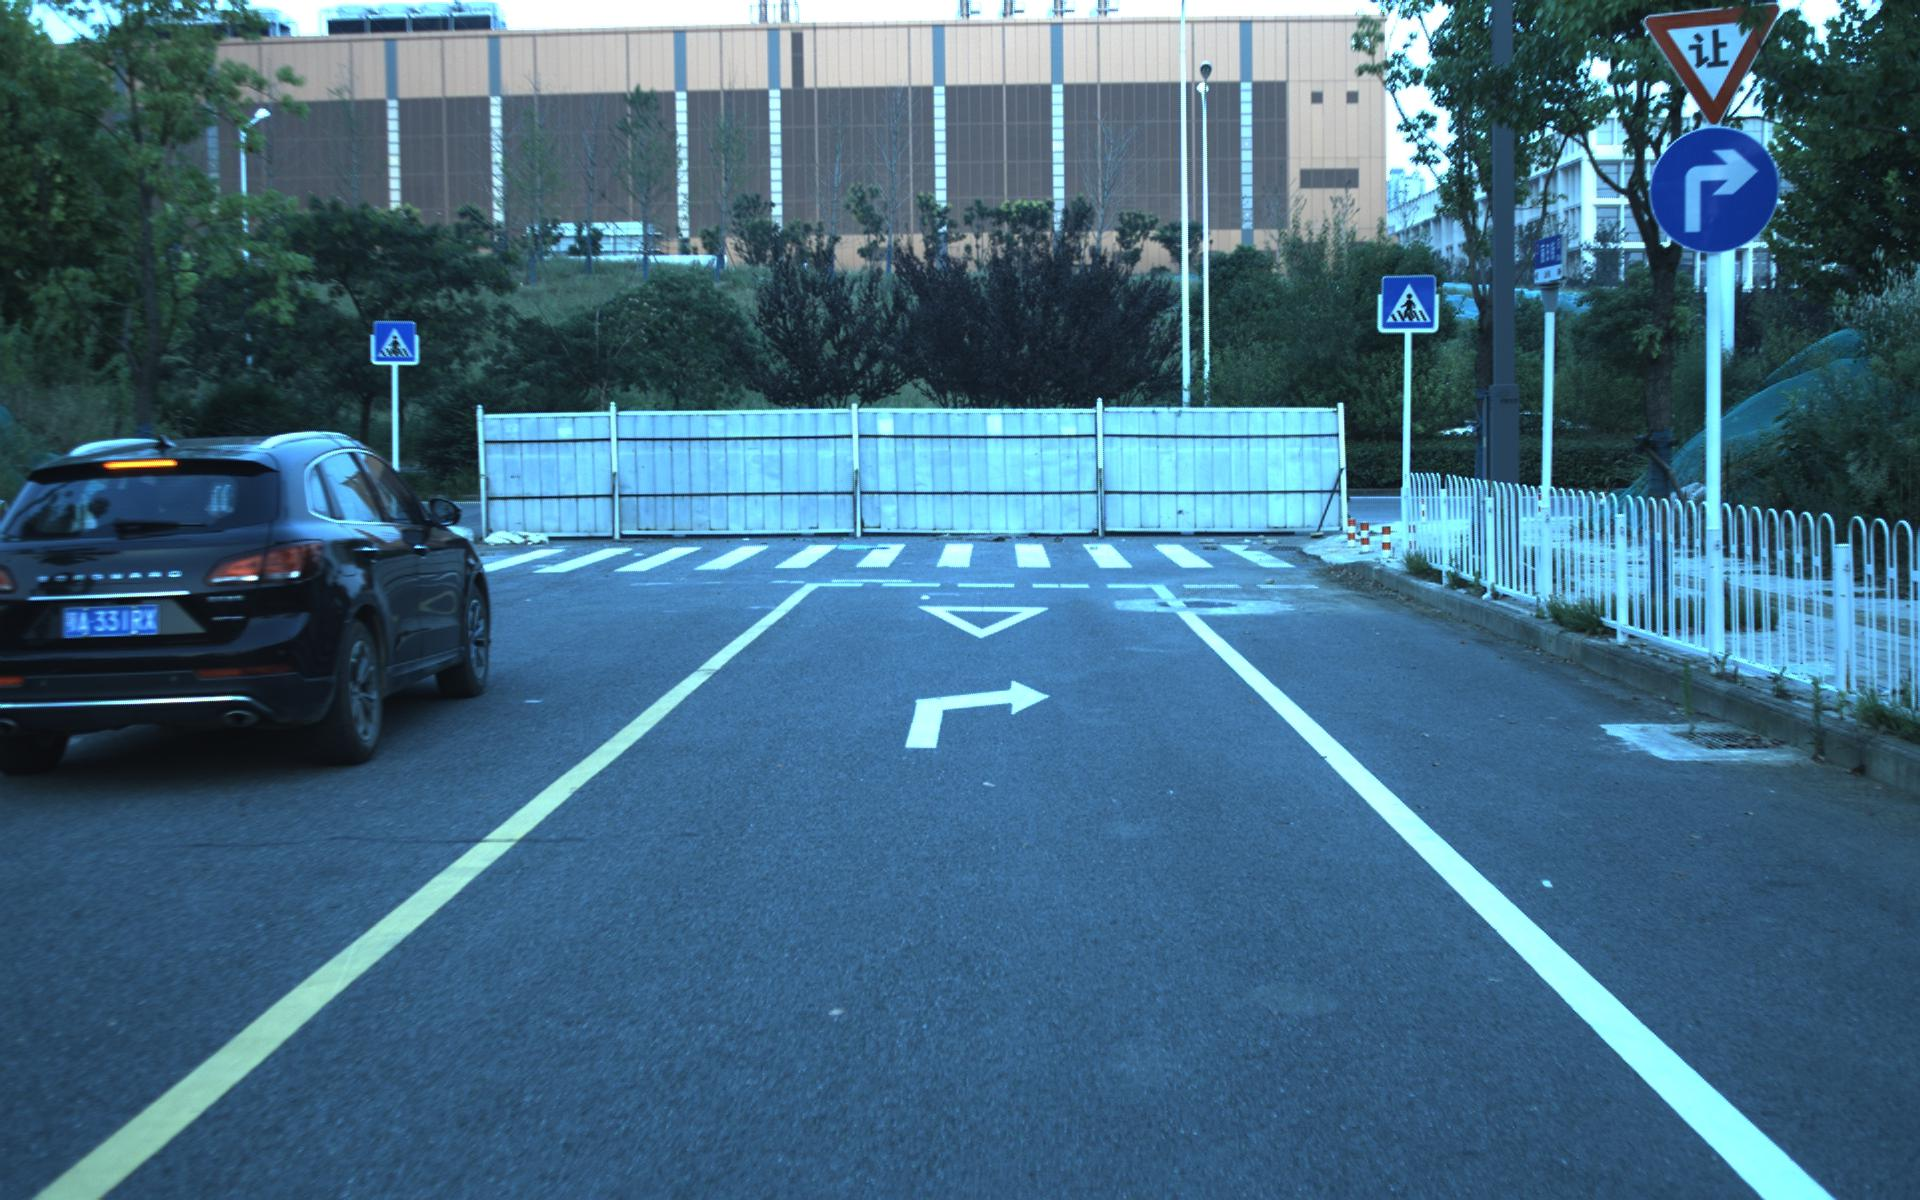Car: (4, 420, 502, 778)
